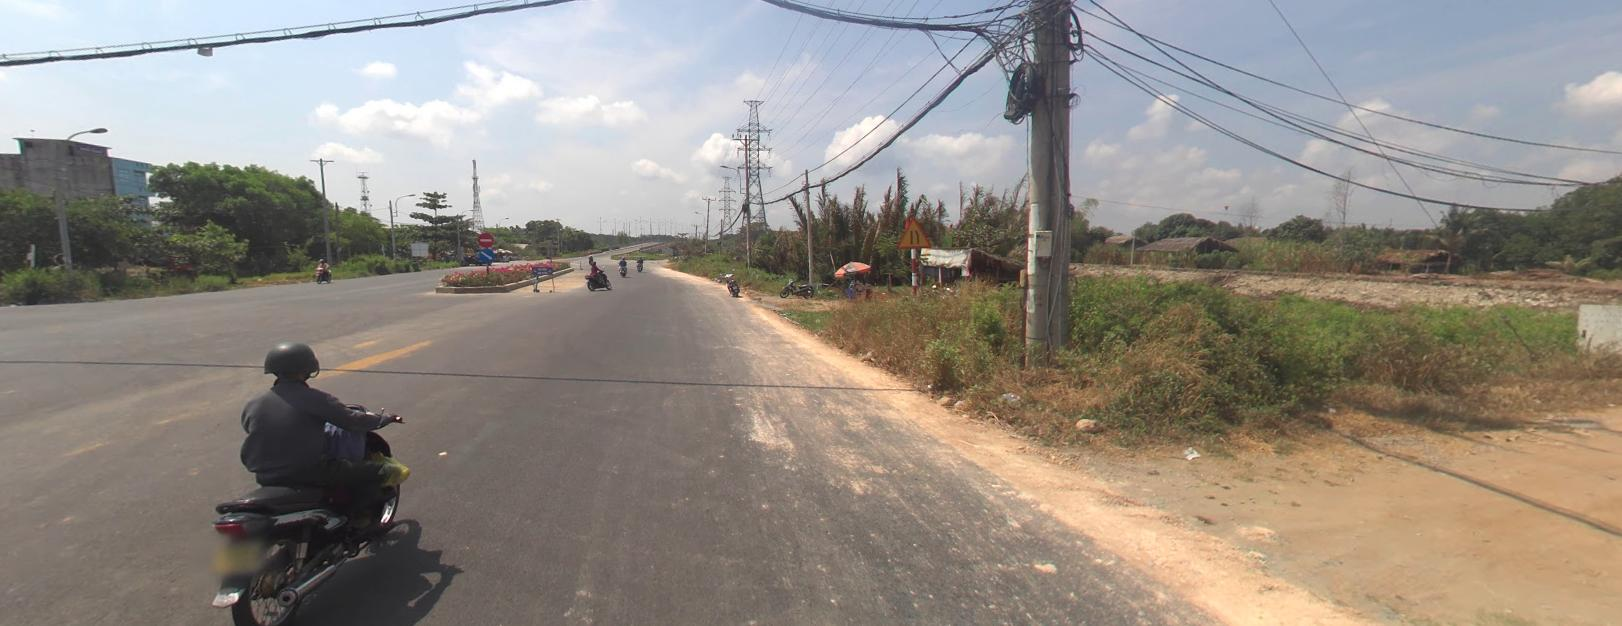Cam nguoc chieu: (478, 231, 494, 245)
Hieu lenh: (477, 246, 494, 261)
Nguy hiem: (895, 213, 931, 246)
